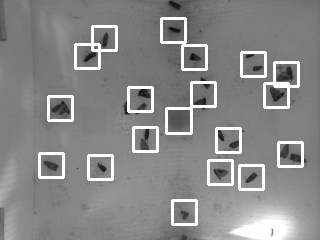insect: (275, 64, 294, 82), (50, 100, 72, 115), (268, 85, 286, 102), (211, 167, 230, 181), (41, 159, 60, 172), (192, 96, 208, 111), (136, 84, 151, 98), (81, 50, 97, 62), (213, 126, 225, 142), (166, 0, 183, 11), (279, 142, 290, 159), (199, 76, 212, 90), (134, 101, 147, 115), (138, 137, 150, 152), (289, 153, 307, 163), (187, 51, 203, 62), (245, 171, 258, 184), (100, 30, 109, 48), (95, 161, 108, 173), (228, 139, 242, 149), (142, 126, 151, 141), (179, 209, 191, 220), (165, 25, 181, 33), (122, 100, 130, 115), (251, 64, 264, 72), (244, 51, 255, 58)
